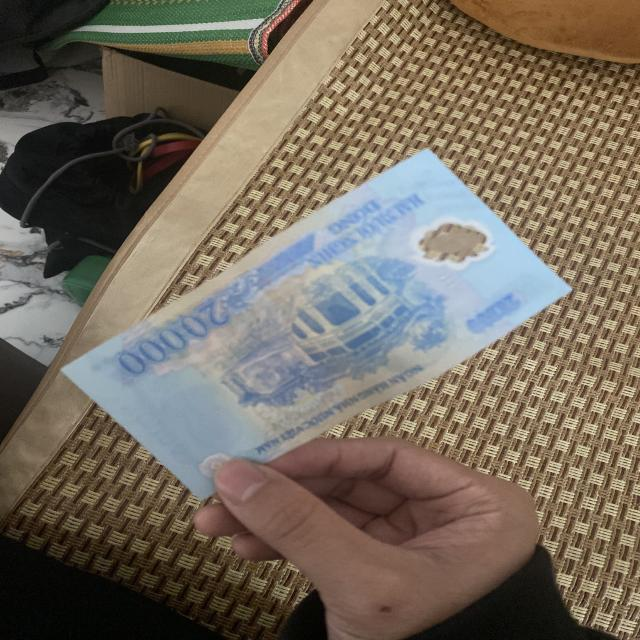20 000 VND: (61, 149, 572, 502)
